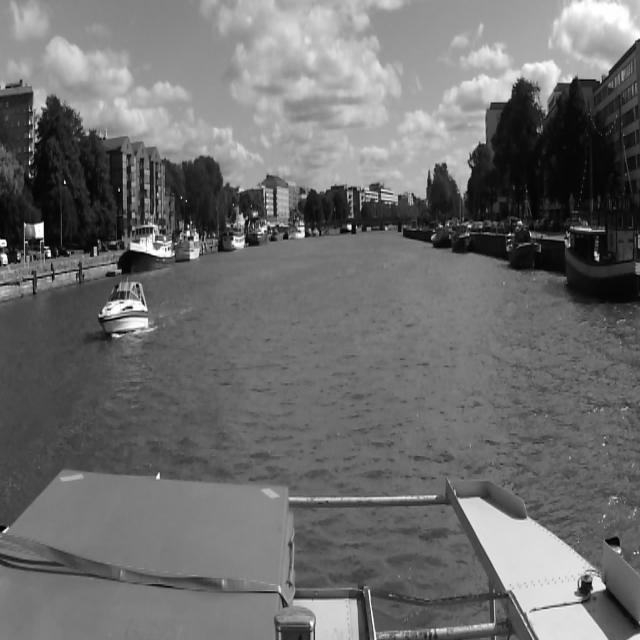ship: (92, 276, 151, 344), (124, 222, 176, 268), (180, 223, 202, 265), (221, 224, 246, 252), (451, 227, 469, 256), (250, 222, 268, 250), (287, 218, 307, 242), (430, 227, 443, 247)
